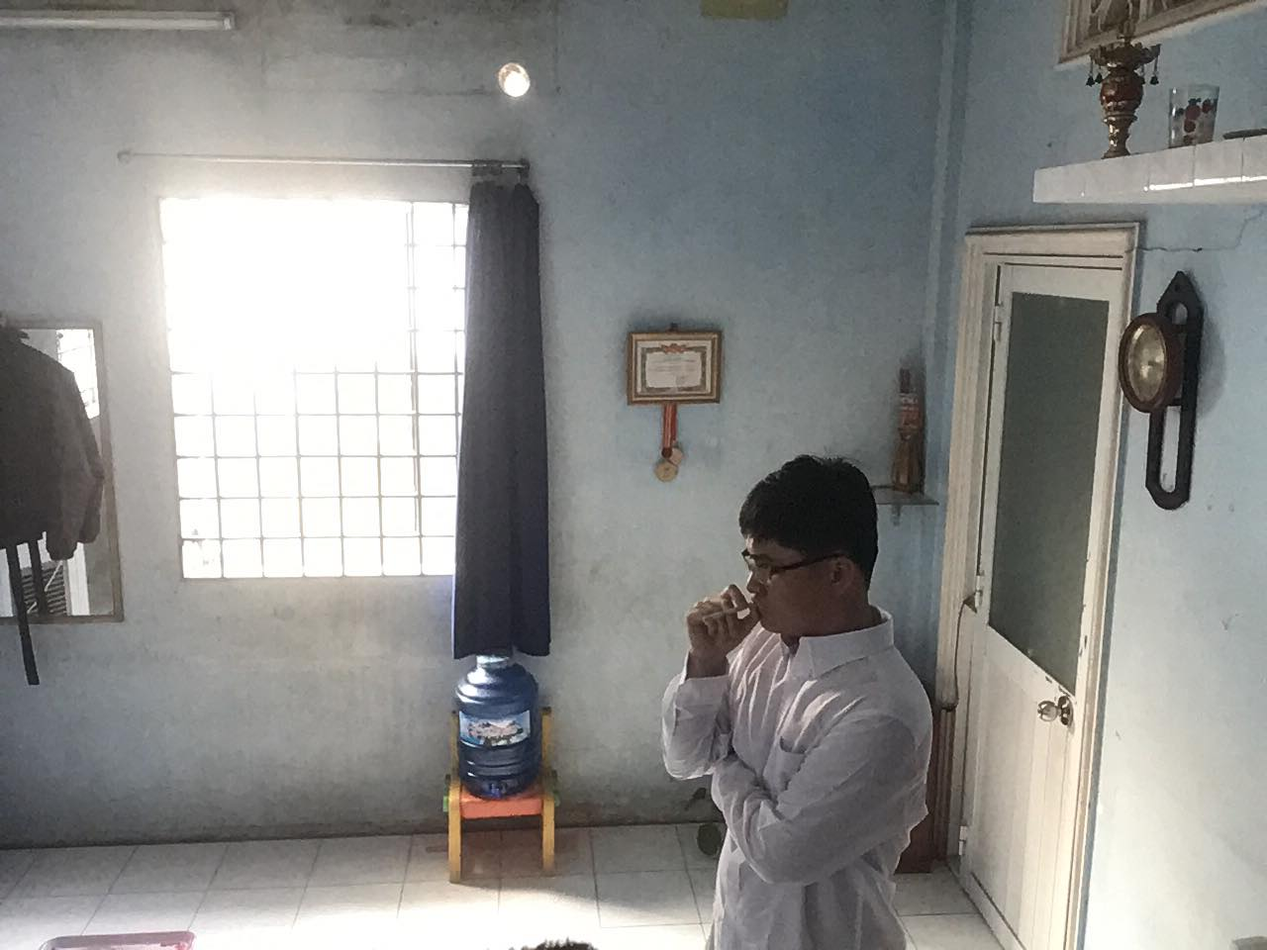cigarette: (699, 598, 752, 627)
person: (641, 427, 963, 950)
